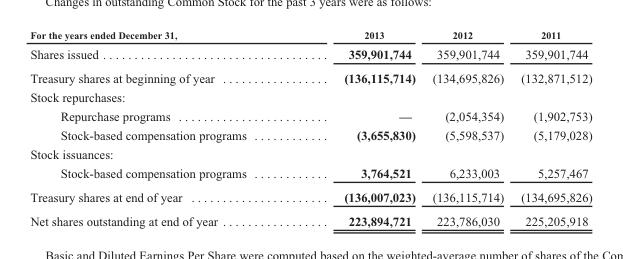table: (29, 29, 591, 227)
table column: (29, 29, 294, 227), (294, 29, 423, 227), (423, 29, 511, 227), (511, 29, 591, 227)
table column header: (29, 29, 591, 43)
table projected row header: (29, 87, 591, 106), (29, 144, 591, 163)
table row: (29, 184, 591, 208), (29, 43, 591, 66), (29, 66, 591, 87), (29, 163, 591, 184), (29, 87, 591, 106), (29, 106, 591, 125), (29, 125, 591, 144), (29, 144, 591, 163), (29, 208, 591, 227), (29, 29, 591, 43)
